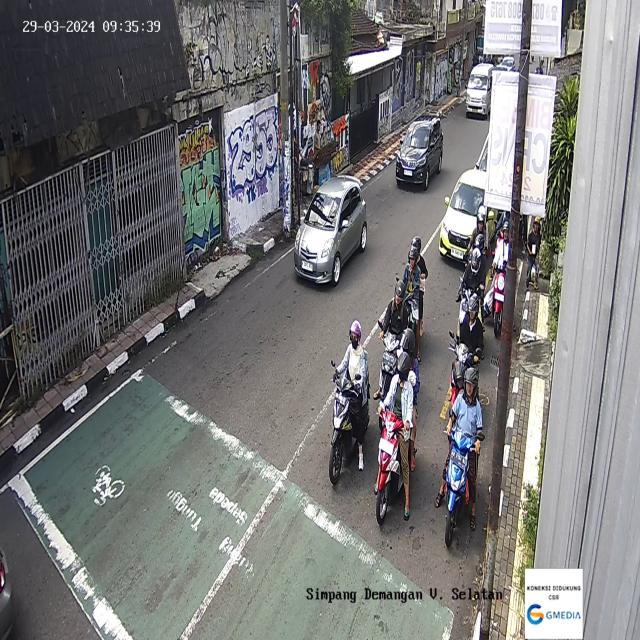car: (294, 174, 368, 286), (438, 167, 487, 263), (395, 115, 444, 190), (465, 62, 494, 119)
motorcycle: (440, 367, 484, 548), (328, 320, 370, 485), (373, 400, 415, 526), (393, 236, 428, 364), (376, 280, 410, 408), (447, 295, 485, 406), (482, 220, 510, 338), (457, 235, 485, 341), (463, 207, 487, 270)
